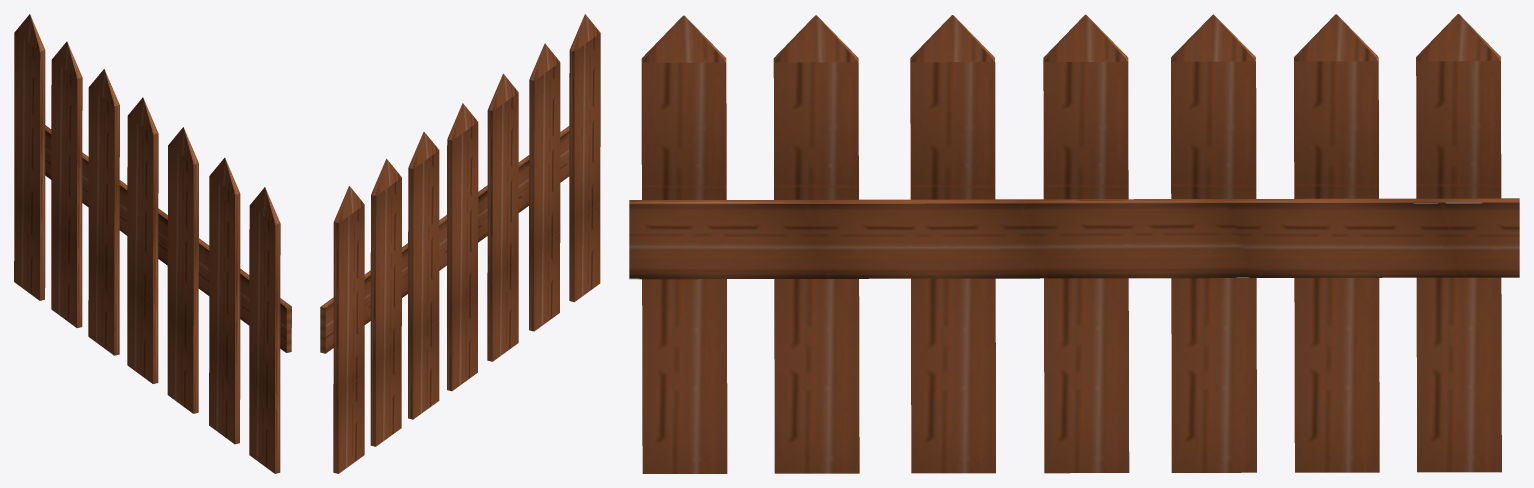
Rendered from Valla.obj.
The picture shows the model from 3 angles, left to right: view 1: azimuth 30°, elevation 25°; view 2: azimuth 150°, elevation 25°; view 3: azimuth 270°, elevation 25°; orthographic projection. The views are drawn at different scales.
Visible parts, largest first — view 1: model_0; view 2: model_0; view 3: model_0.
Boxes of the visible parts, left/top/right/bottom form: model_0: left=14, top=14, right=291, bottom=473; model_0: left=320, top=14, right=600, bottom=473; model_0: left=629, top=14, right=1519, bottom=473.
Size of the model in its own units: 0.62 by 12.8 by 22.57.
